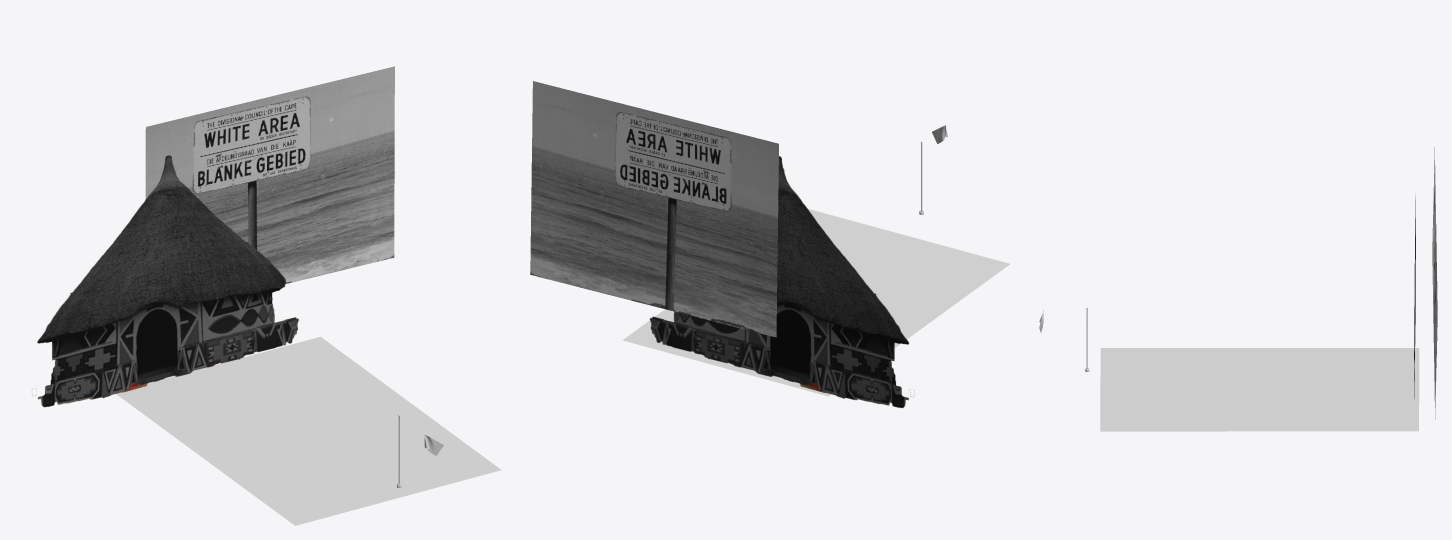
The model's file is project_mandela_2_0_1.glb.
3 views of the same model, side by side, from view 1: azimuth 30°, elevation 25°; view 2: azimuth 150°, elevation 25°; view 3: azimuth 270°, elevation 25° (orthographic). The views are drawn at different scales.
Visible parts, largest first — view 1: Plane, background mesh 01, background mesh 02 hut; view 2: background mesh 01, background mesh 02 hut, Plane; view 3: Plane, background mesh 01.
Part boxes in pixels (x1,y1,x2,y2): Plane: (116, 337, 501, 525); background mesh 01: (145, 66, 394, 283); background mesh 02 hut: (32, 155, 298, 407); background mesh 01: (530, 81, 778, 337); background mesh 02 hut: (649, 156, 914, 407); Plane: (622, 209, 1009, 396); Plane: (1100, 348, 1419, 431); background mesh 01: (1432, 147, 1437, 419).
Size of the model in its own units: 14.93 by 16.04 by 15.04.
Materials: 3 (2 with a texture image).
